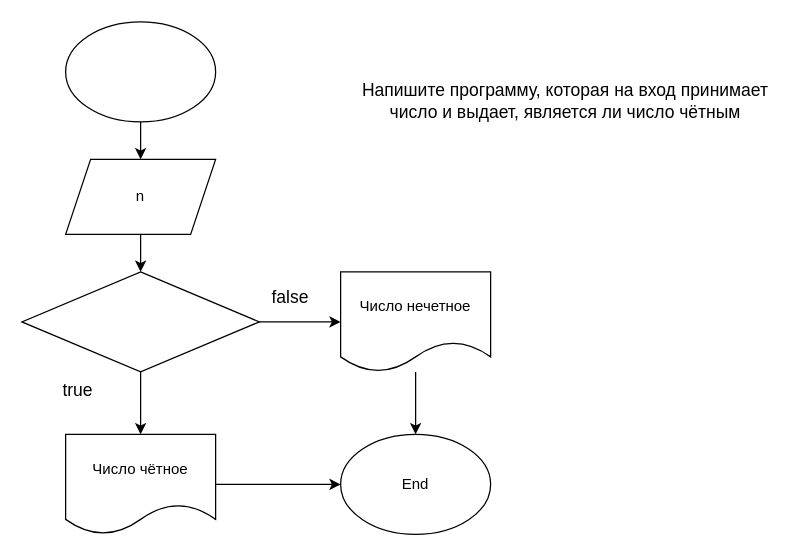
Image size: 800x556. Some labels were removed from this diagram. Here are the shapes that lost their labels. From the top down, the centre of each, then its label:
At [140,71]: "Start".
At [140,321]: "n делится на 2 без остатка".
